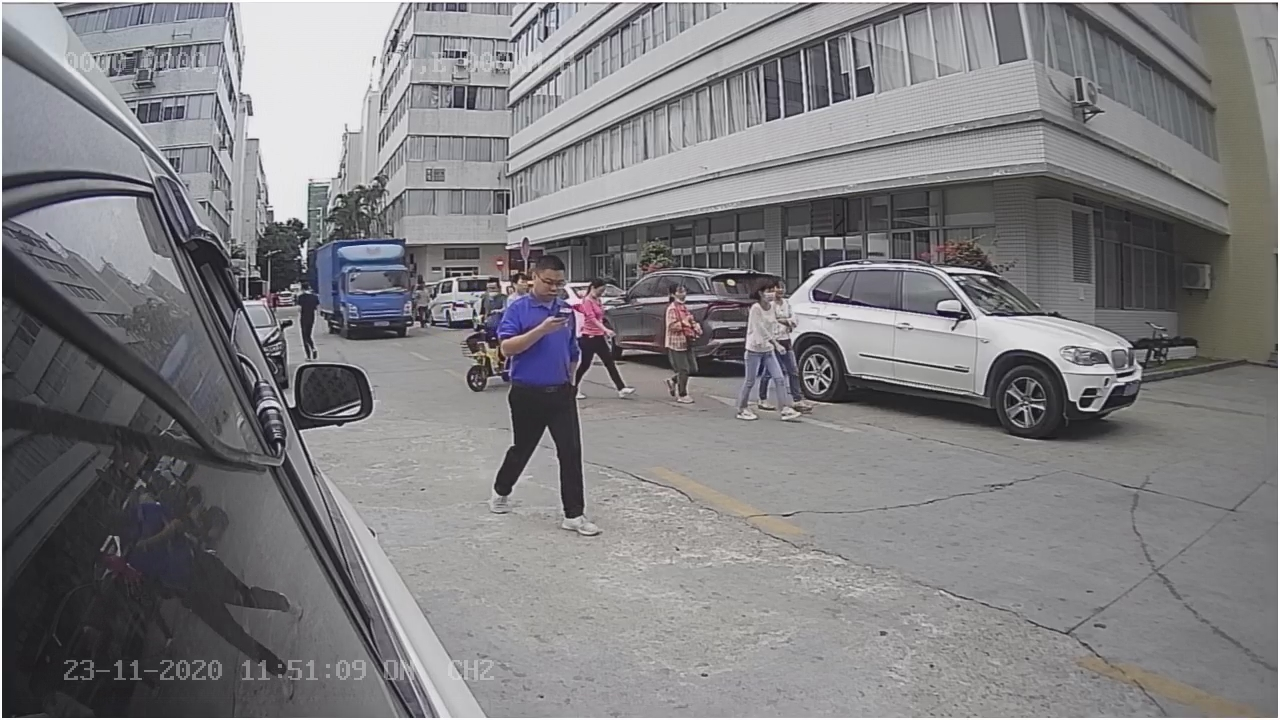person: (477, 240, 602, 543), (655, 275, 706, 403)
